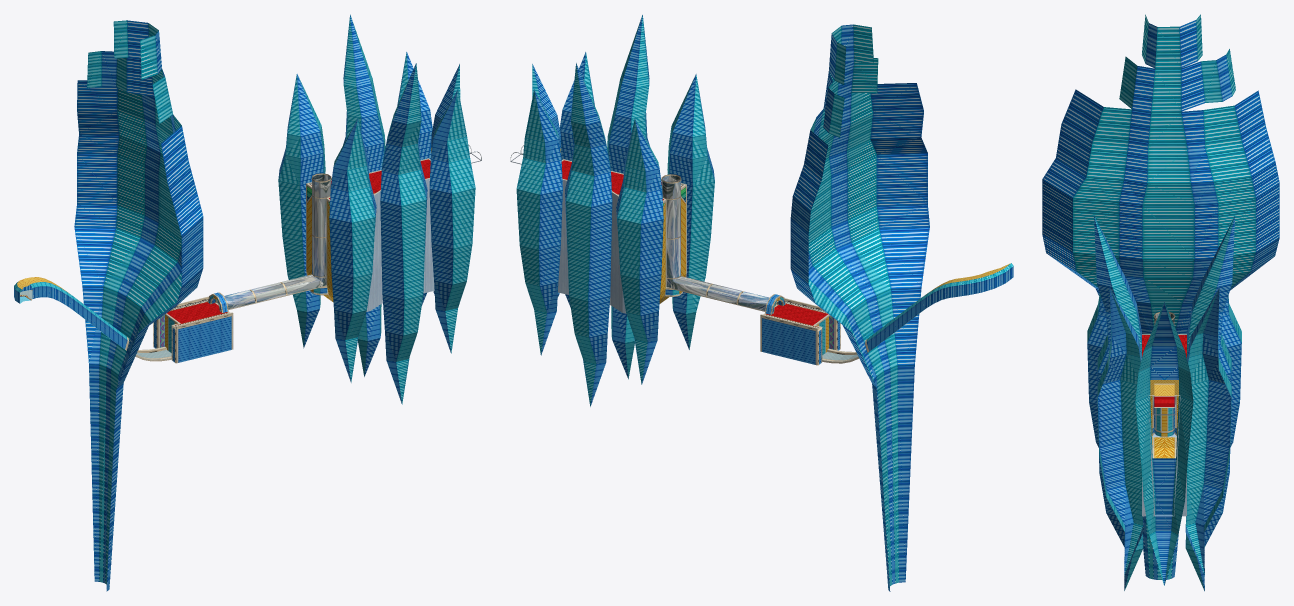
File: Bingo_highway_6.obj
The picture shows the model from 3 angles, left to right: view 1: azimuth 30°, elevation 25°; view 2: azimuth 150°, elevation 25°; view 3: azimuth 270°, elevation 25°; orthographic projection. The views are drawn at different scales.
Parts seen in each view (by area): view 1: obj1, Object_2, obj2; view 2: obj1, Object_2, obj2; view 3: obj1, obj2.
Boxes of the visible parts, bbox=[...] form: obj1: bbox=[14, 14, 481, 591]; Object_2: bbox=[217, 174, 330, 309]; obj2: bbox=[166, 158, 430, 327]; obj1: bbox=[510, 15, 1013, 591]; Object_2: bbox=[662, 175, 769, 310]; obj2: bbox=[561, 159, 829, 329]; obj1: bbox=[1042, 14, 1279, 591]; obj2: bbox=[1142, 334, 1186, 407].
Size of the model in its own units: 2860 by 3119 by 1159.
